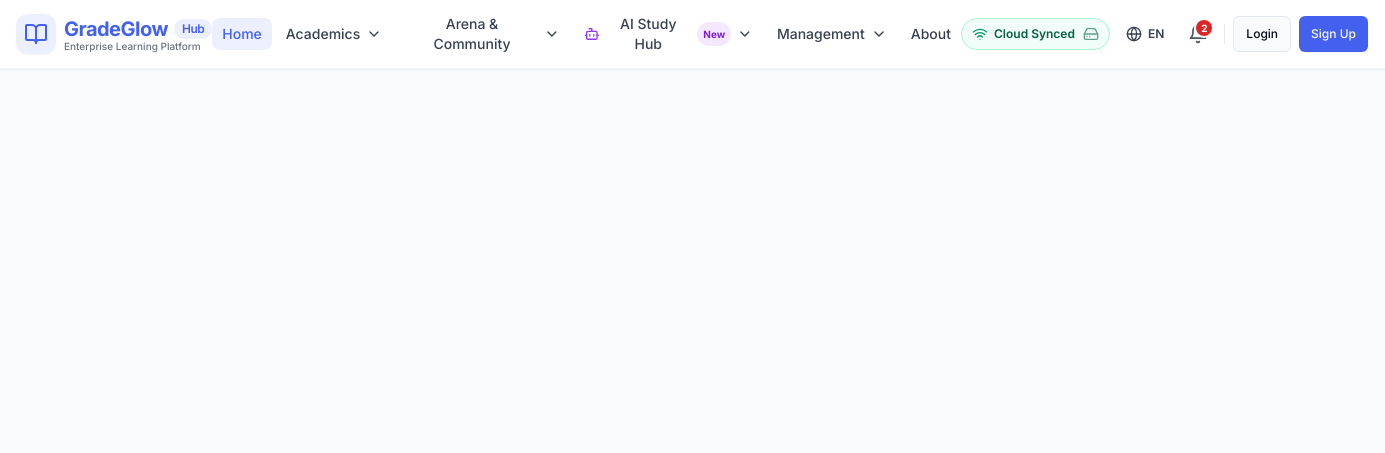
Test: Navbar Component with Dropdown Architecture › opens AI Studio dropdown on click and displays GlowBot, Question Ingest and Essay Lab
Step 1. Click the button "AI Study Hub New" → (668, 34), box left=574, top=8, right=763, bottom=60
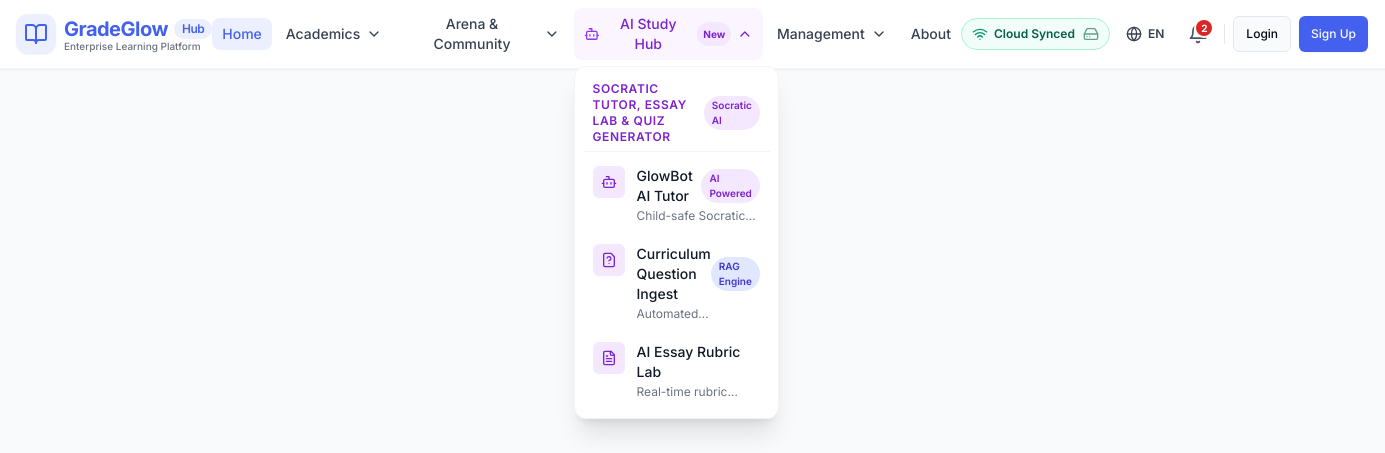
Now the text "GlowBot AI Tutor" is shown, box left=636, top=166, right=702, bottom=206
Now the text "Curriculum Question Ingest" is shown, box left=636, top=244, right=711, bottom=304
Now the text "AI Essay Rubric Lab" is shown, box left=636, top=343, right=740, bottom=380
